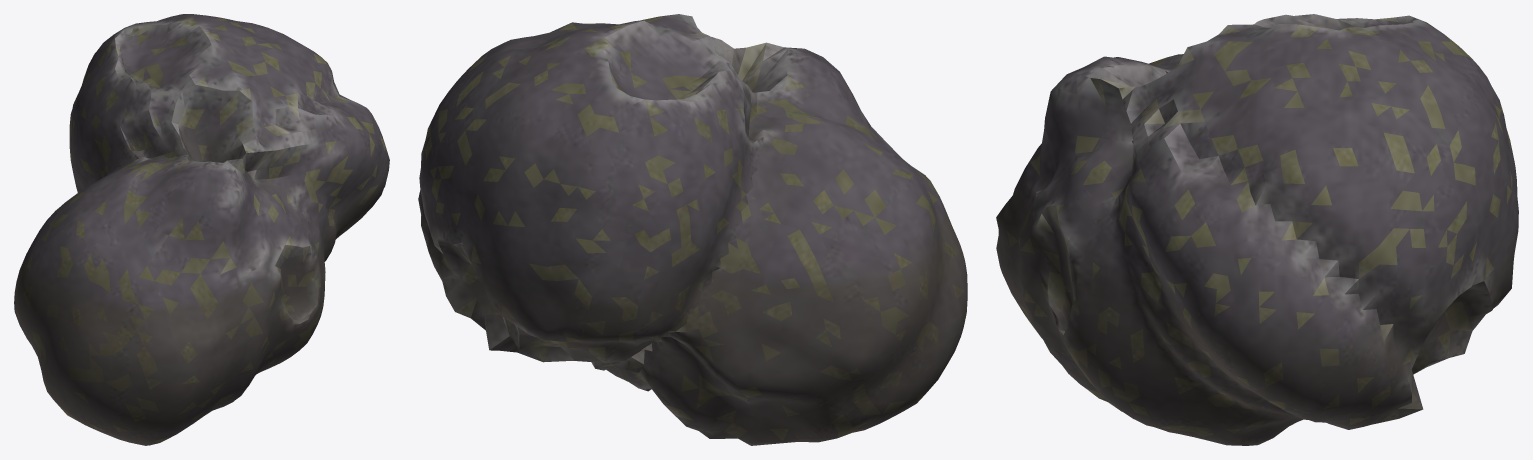
The model's file is medium-carbonic-asteroid.glb.
3 renders of one model, left to right at view 1: azimuth 30°, elevation 25°; view 2: azimuth 150°, elevation 25°; view 3: azimuth 270°, elevation 25°, orthographic. The views are drawn at different scales.
Visible parts, largest first — view 1: body; view 2: body; view 3: body.
Part boxes in pixels (left/top/right/bottom): body: left=14, top=14, right=389, bottom=445; body: left=418, top=14, right=967, bottom=445; body: left=996, top=14, right=1518, bottom=445.
Bounding box in the file's own units: 3.44 × 2.96 × 3.07.
Materials: 1 (1 with a texture image).
